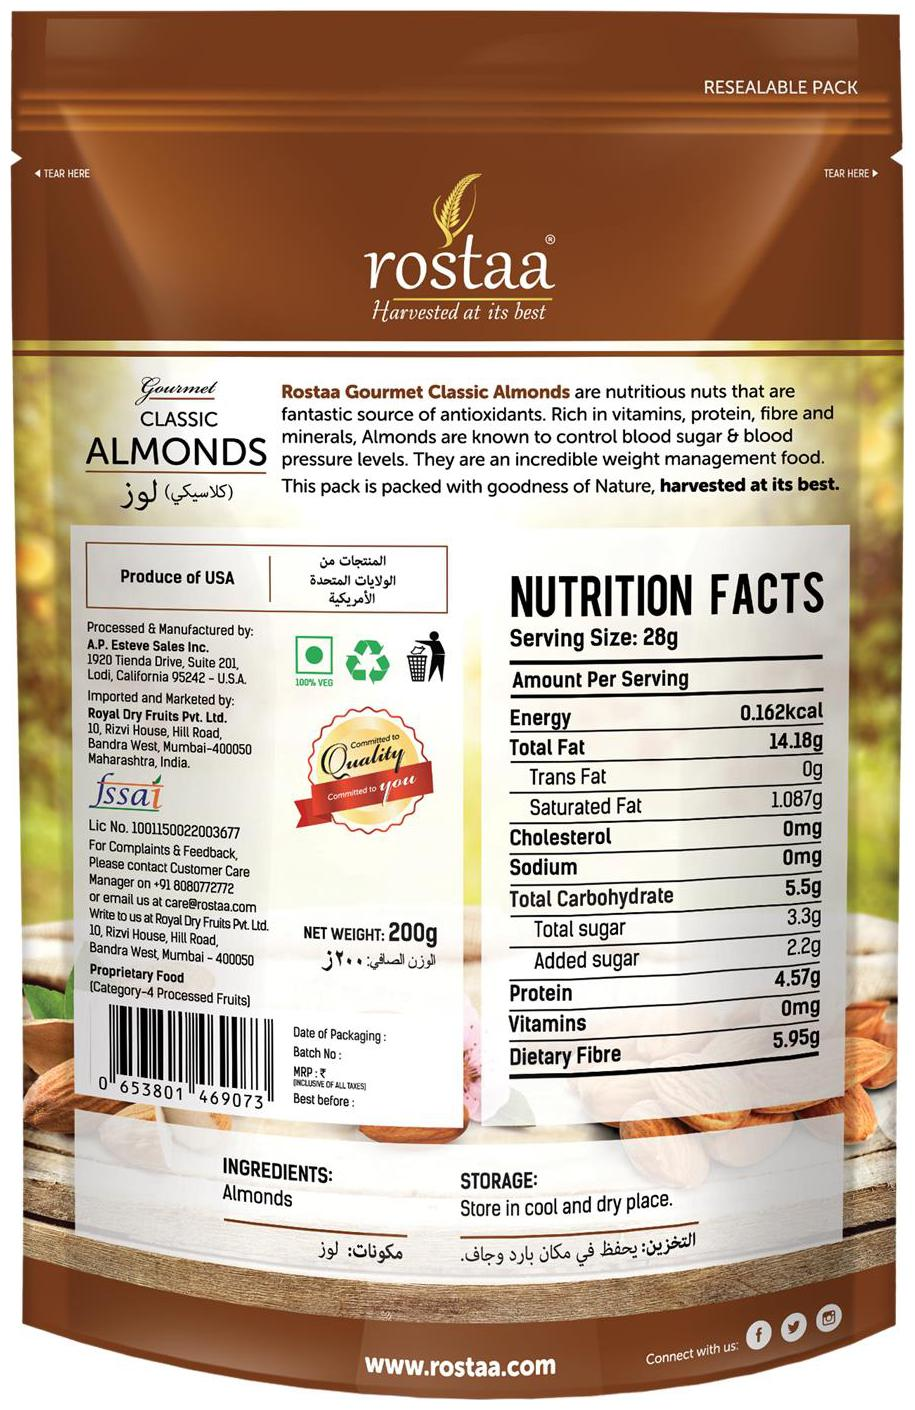fssai: (86, 771, 164, 811)
